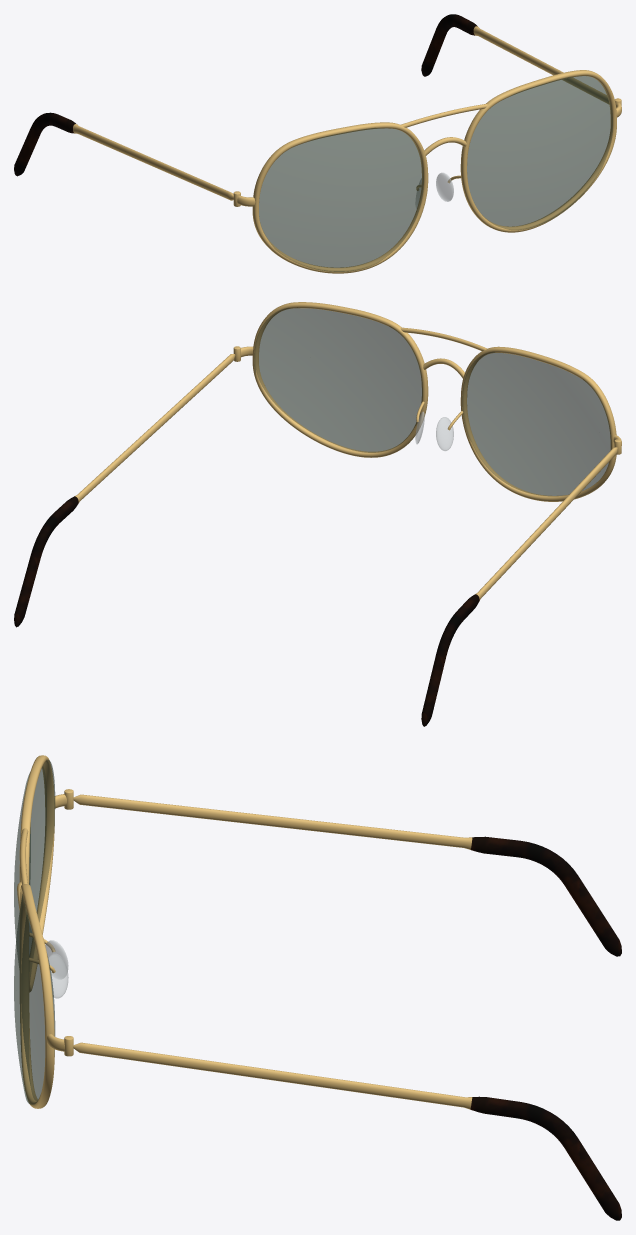
The model's file is sky-s.glb.
3 renders of one model, top to bottom at view 1: azimuth 30°, elevation 25°; view 2: azimuth 150°, elevation 25°; view 3: azimuth 270°, elevation 25°, orthographic. The views are drawn at different scales.
Visible parts, largest first — view 1: Lens_R, Lens_L, Front, Temple_R, Temple_L, NosePads; view 2: Lens_L, Lens_R, Front, Temple_L, Temple_R, NosePads; view 3: Front, Temple_L, Temple_R, Lens_L, Lens_R, NosePads.
Boxes of the visible parts, <box> form: Lens_R: <box>259,128,423,271</box>; Lens_L: <box>467,76,612,230</box>; Front: <box>233,70,621,273</box>; Temple_R: <box>14,112,233,200</box>; Temple_L: <box>421,14,608,104</box>; NosePads: <box>415,172,453,208</box>; Lens_L: <box>254,308,422,452</box>; Lens_R: <box>462,352,611,495</box>; Front: <box>233,302,621,501</box>; Temple_L: <box>14,354,235,627</box>; Temple_R: <box>421,447,617,726</box>; NosePads: <box>415,411,453,451</box>; Front: <box>17,755,73,1108</box>; Temple_L: <box>73,1042,621,1220</box>; Temple_R: <box>73,794,621,956</box>; Lens_L: <box>14,894,55,1104</box>; Lens_R: <box>14,760,55,967</box>; NosePads: <box>45,940,68,998</box>.
Bounding box in the file's own units: 0.1403 × 0.0592 × 0.1339.
Materials: 6 (1 with a texture image).
